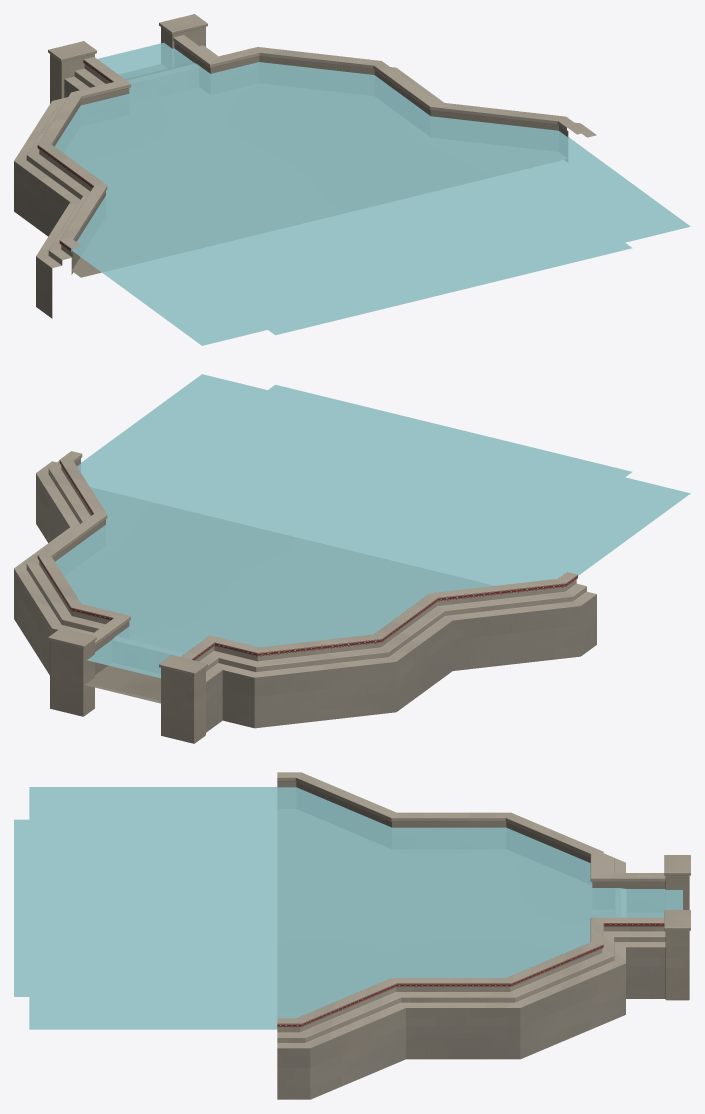
File: pool_basin.glb
3 views of the same model, one above another, from view 1: azimuth 30°, elevation 25°; view 2: azimuth 150°, elevation 25°; view 3: azimuth 270°, elevation 25° (orthographic).
Parts seen in each view (by area): view 1: pool_basin_water, pool_basin; view 2: pool_basin_water, pool_basin; view 3: pool_basin_water, pool_basin.
Boxes of the visible parts, left/top/right/bottom form: pool_basin_water: left=54, top=42, right=690, bottom=345; pool_basin: left=14, top=14, right=596, bottom=318; pool_basin_water: left=55, top=374, right=690, bottom=678; pool_basin: left=14, top=451, right=596, bottom=743; pool_basin_water: left=14, top=787, right=682, bottom=1029; pool_basin: left=277, top=772, right=690, bottom=1099.
Bounding box in the file's own units: 67.1 × 8.45 × 70.95.
Materials: 2 (1 with a texture image).
